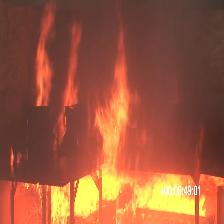fire: (33, 6, 216, 221)
